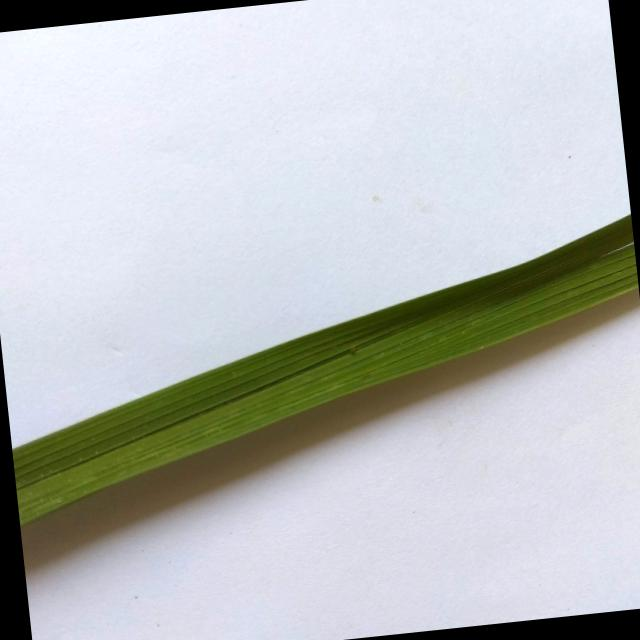Rice_Healthy: (12, 215, 638, 524)
